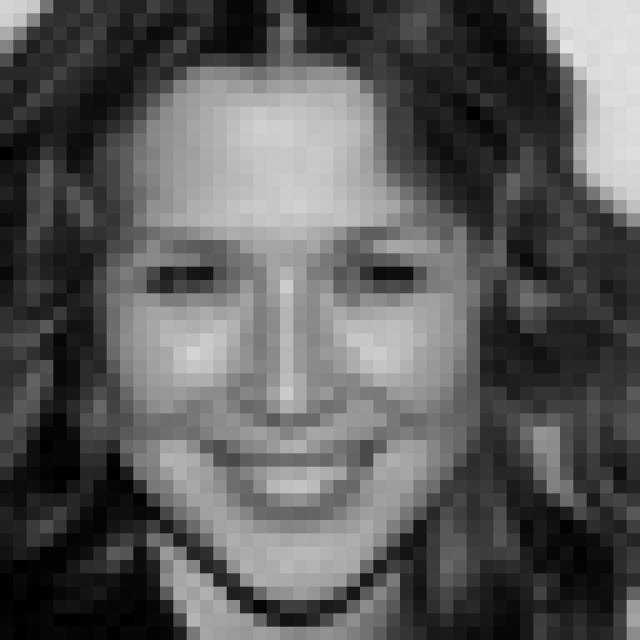happy: (121, 209, 462, 538)
